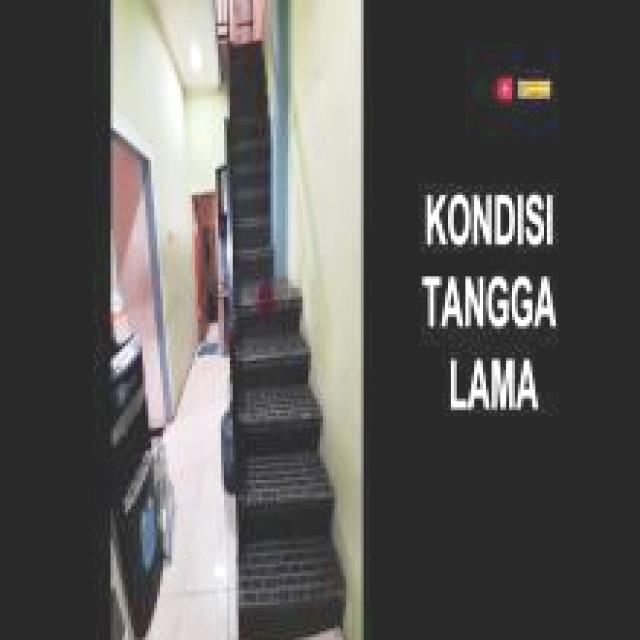upstair: (240, 341, 350, 640)
